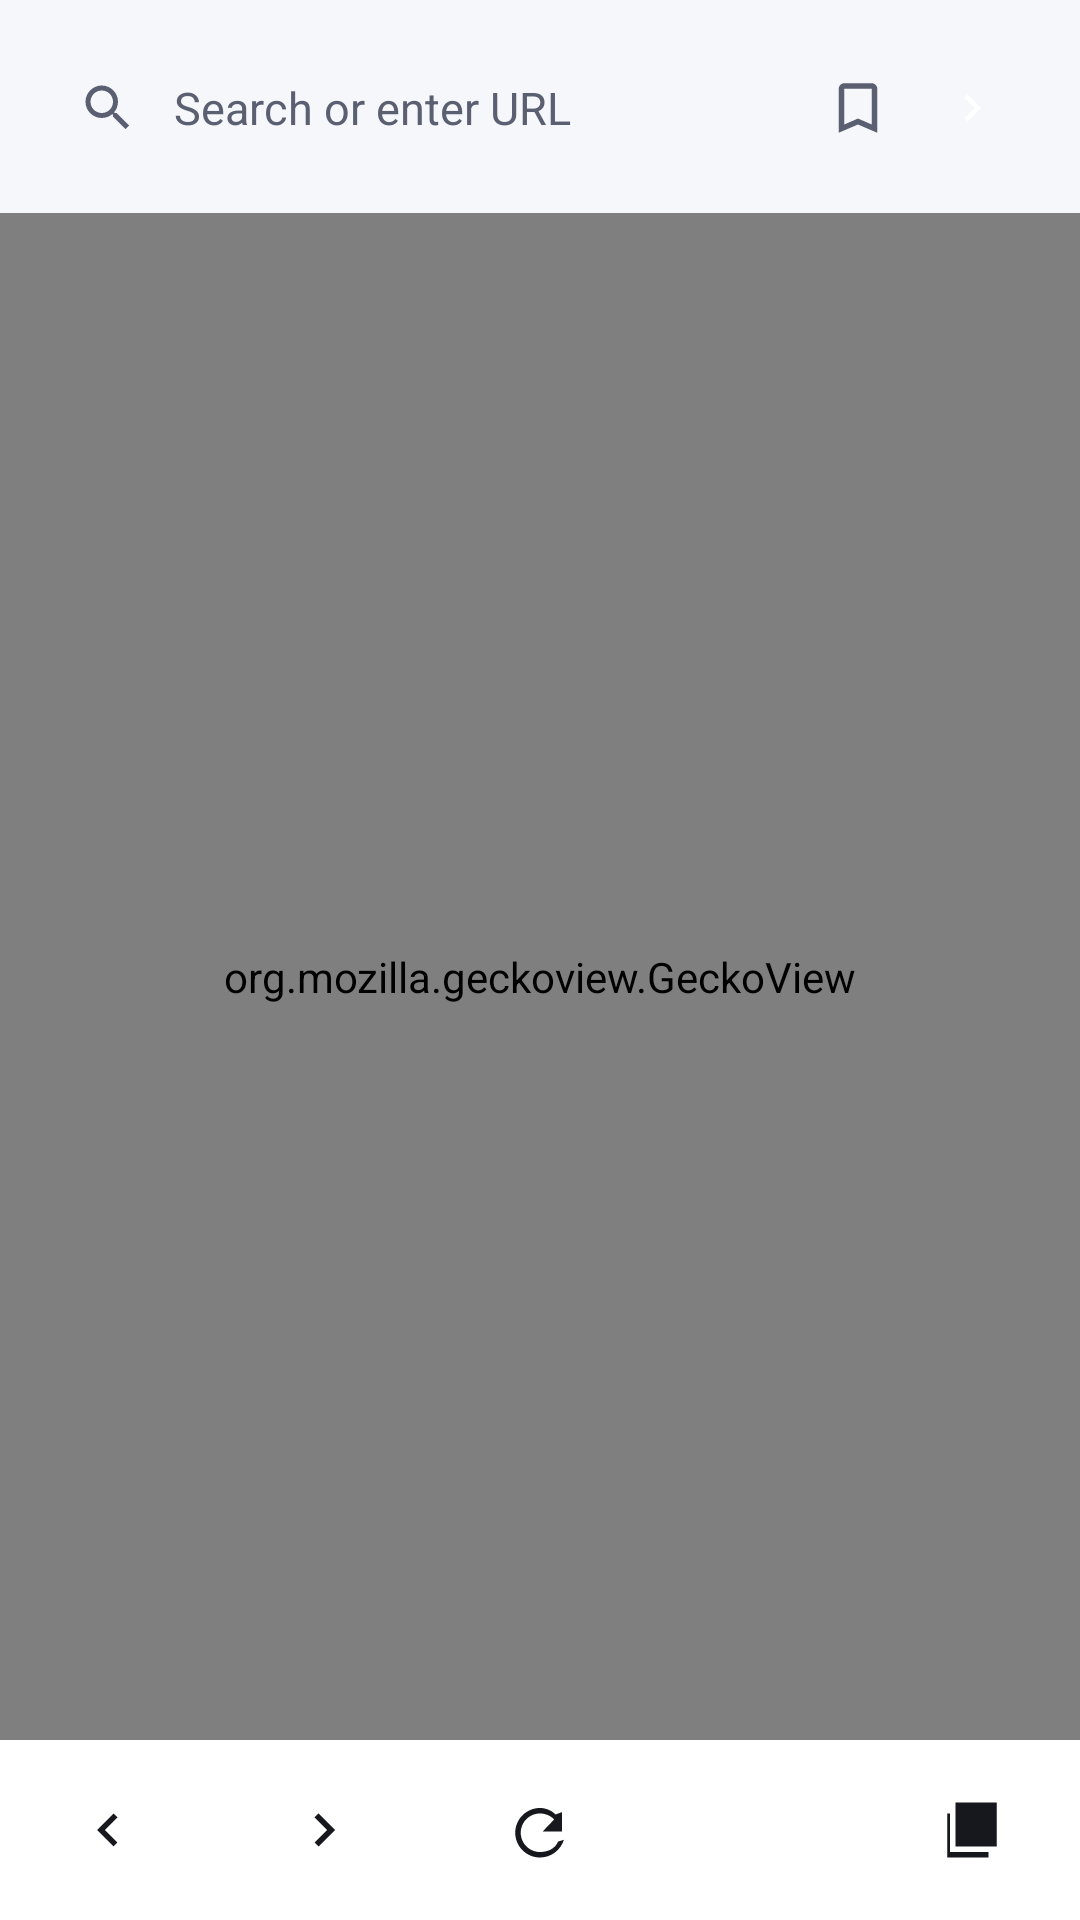

Icons on this 1080w x 1920h Android screen, each with its box as (x1, y1, x2, y2):
Add bookmark: (838, 83, 878, 133)
Back: (97, 1813, 118, 1847)
Forward: (314, 1813, 335, 1847)
Reload: (515, 1808, 564, 1858)
